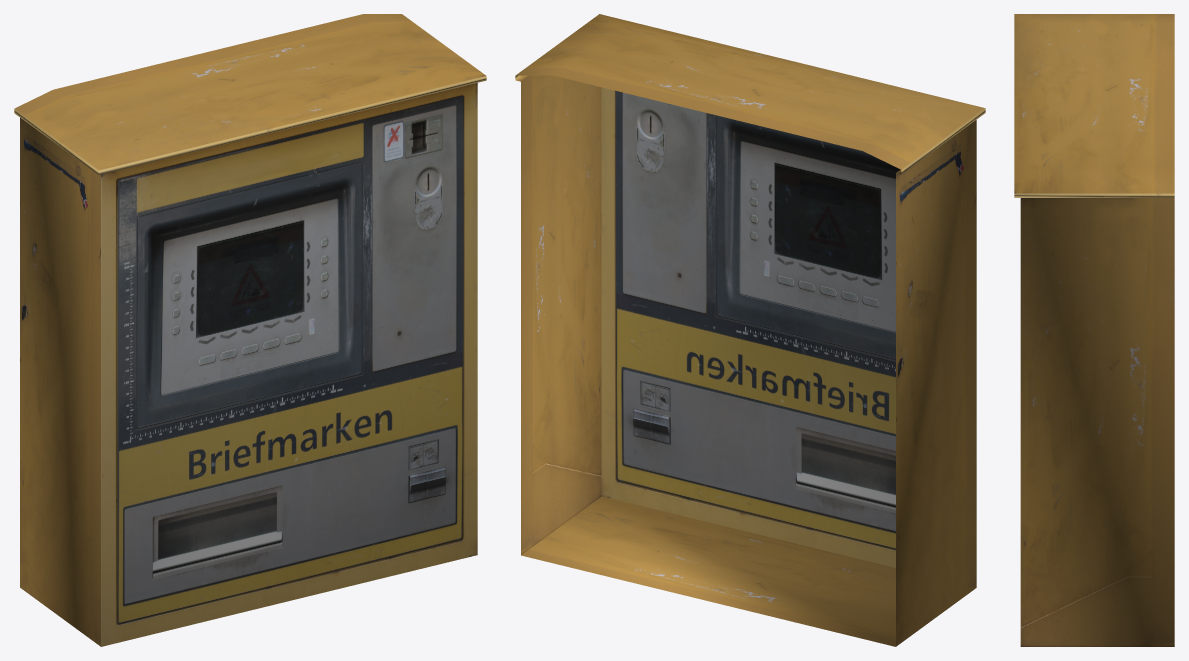
File: briefmarkenautomat_0001.fbx
3 views of the same model, side by side, from view 1: azimuth 30°, elevation 25°; view 2: azimuth 150°, elevation 25°; view 3: azimuth 270°, elevation 25° (orthographic). The views are drawn at different scales.
Parts seen in each view (by area): view 1: briefmarkenautomat_0001; view 2: briefmarkenautomat_0001; view 3: briefmarkenautomat_0001.
Part boxes in pixels (<box>): briefmarkenautomat_0001: <box>14,14,486,646</box>; briefmarkenautomat_0001: <box>515,14,985,646</box>; briefmarkenautomat_0001: <box>1014,14,1174,646</box>.
Size of the model in its own units: 103 by 124 by 38.92.
